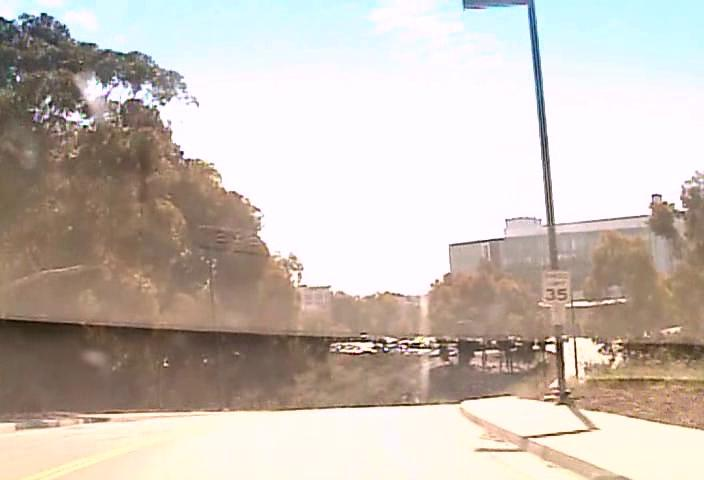speedLimit35: (541, 270, 571, 306)
